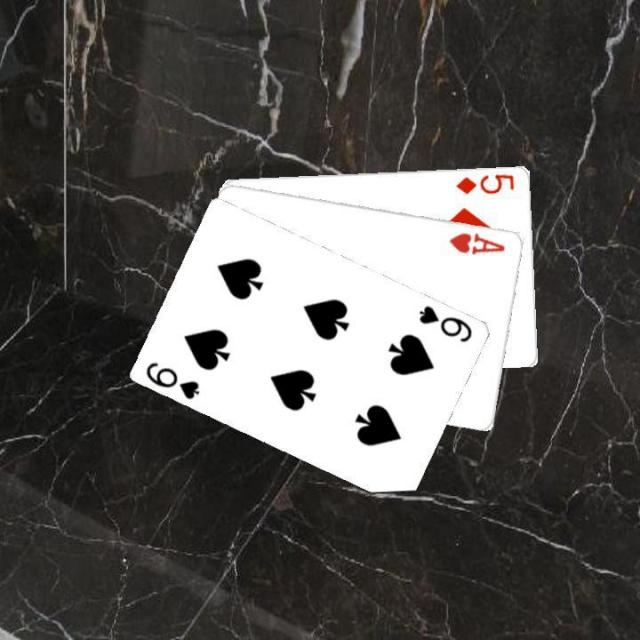5D: (452, 169, 516, 195)
6S: (142, 357, 202, 402), (415, 301, 475, 344)
AH: (446, 227, 508, 257)
